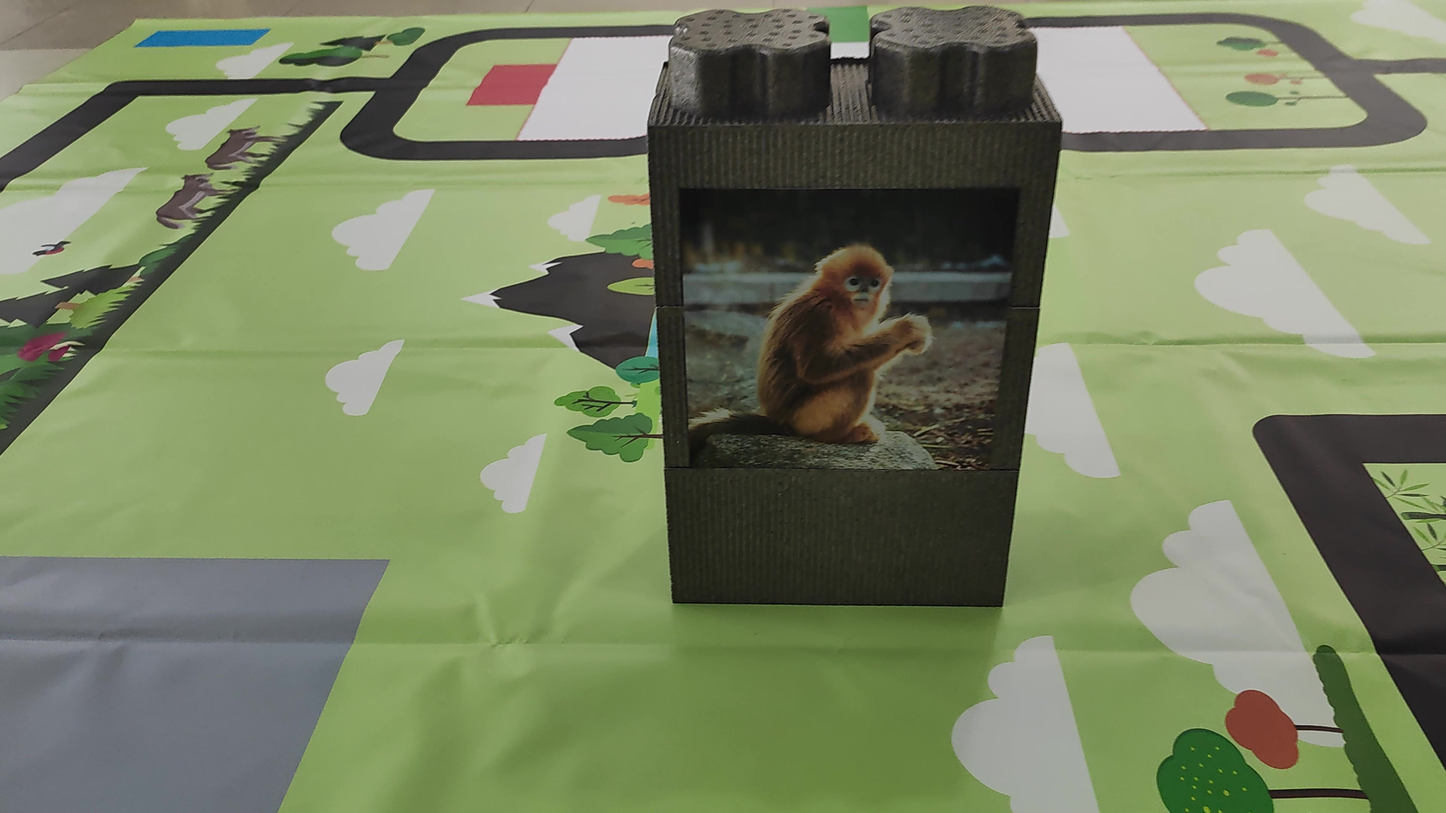monkey: (718, 216, 948, 451)
